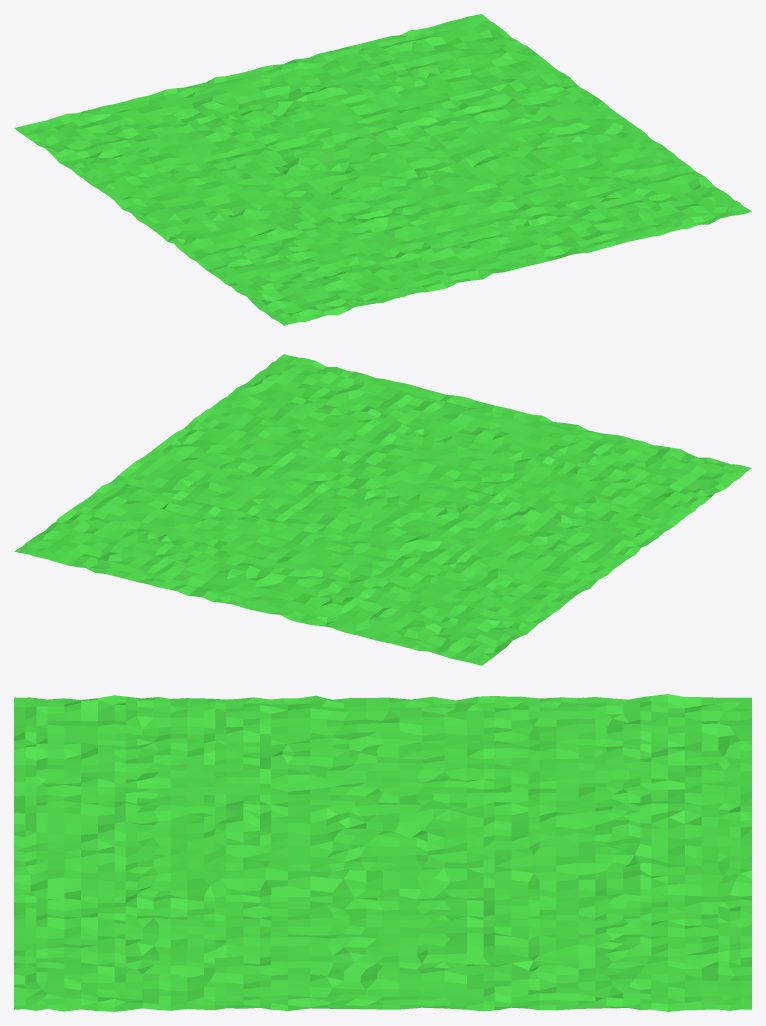
3 views of the same model, one above another, from view 1: azimuth 30°, elevation 25°; view 2: azimuth 150°, elevation 25°; view 3: azimuth 270°, elevation 25° (orthographic). The views are drawn at different scales.
Visible parts, largest first — view 1: Plane; view 2: Plane; view 3: Plane.
Boxes of the visible parts, x1,y1,x2,y2 form: Plane: (14, 14, 751, 325); Plane: (14, 354, 751, 665); Plane: (14, 694, 751, 1011).
Size of the model in its own units: 10000 by 137 by 10000.
